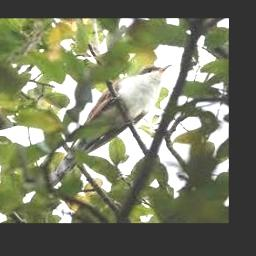Cuckoo: (47, 63, 172, 186)
